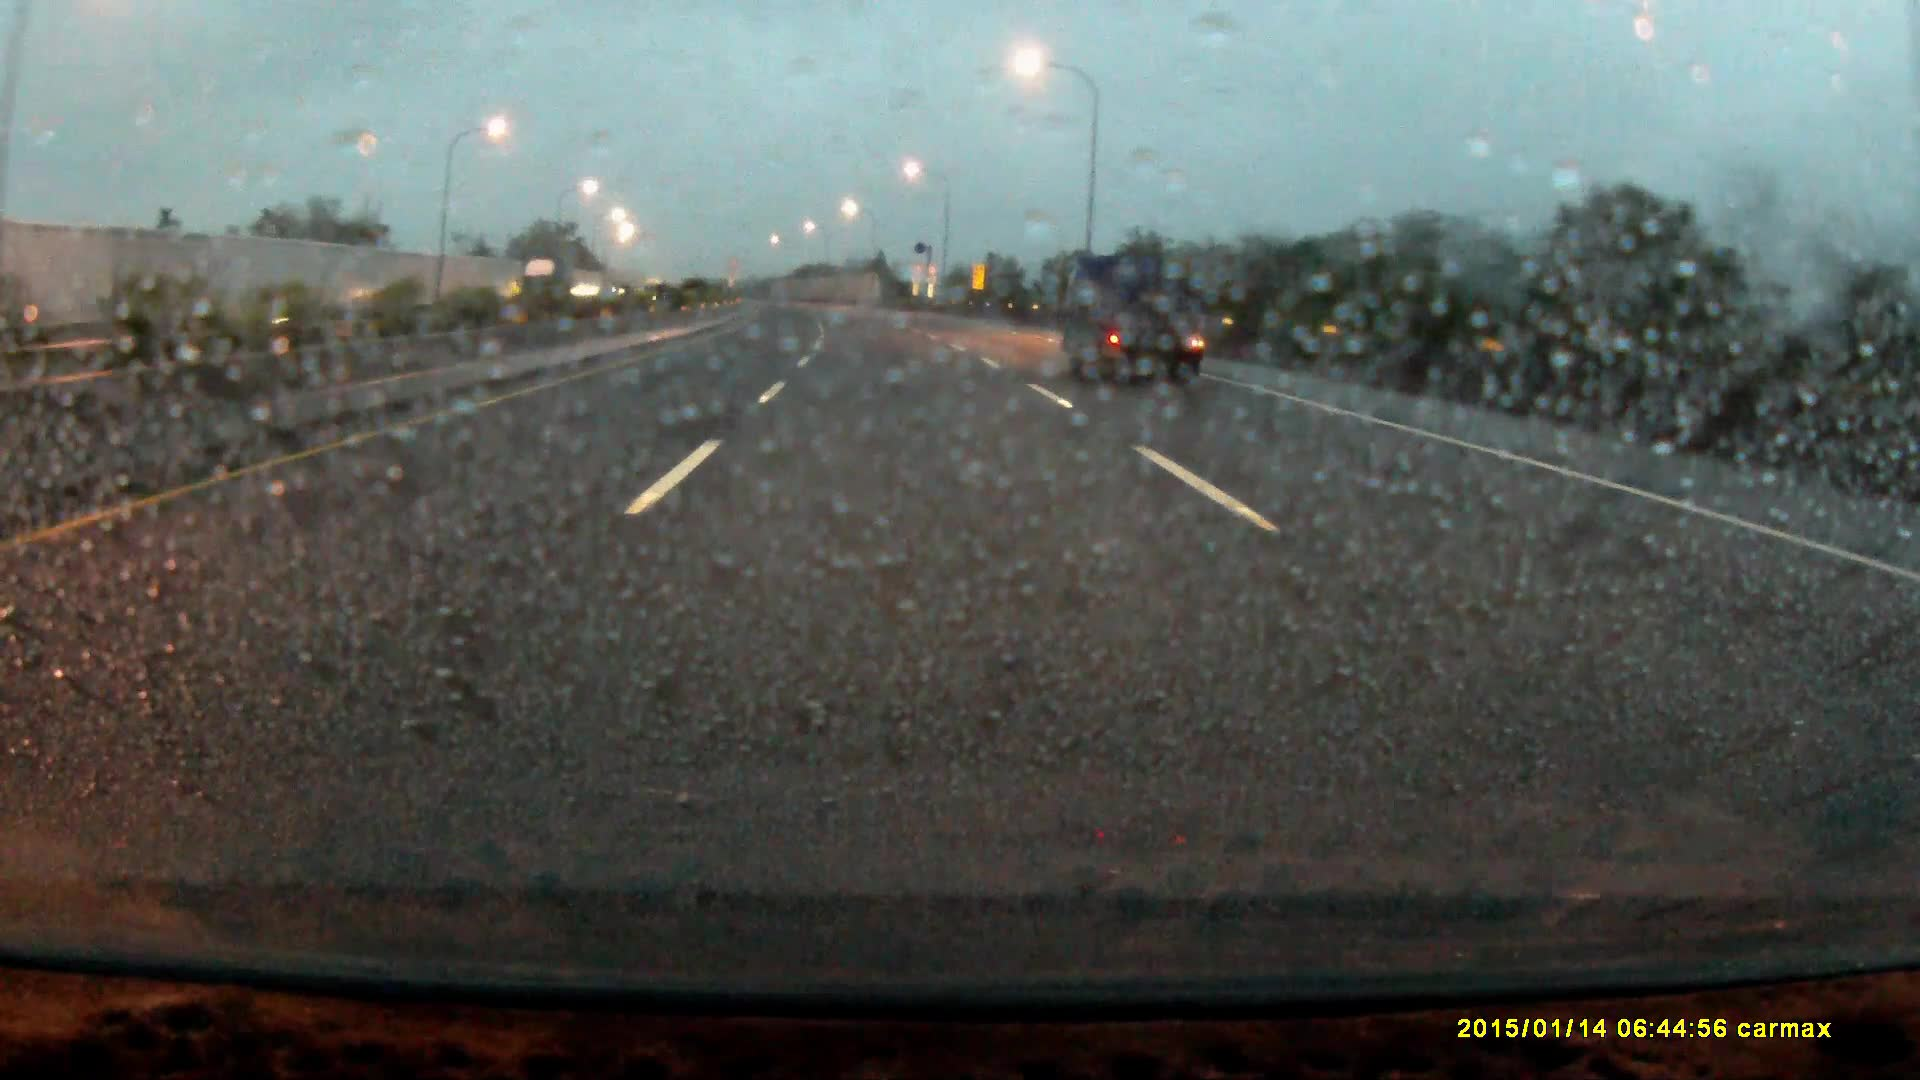vehicle: (1060, 253, 1205, 398), (524, 257, 572, 322)
